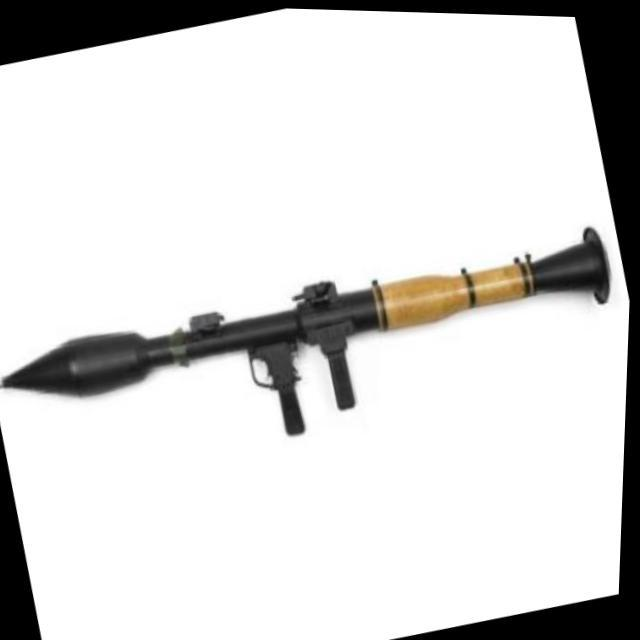weapon: (0, 201, 634, 504)
